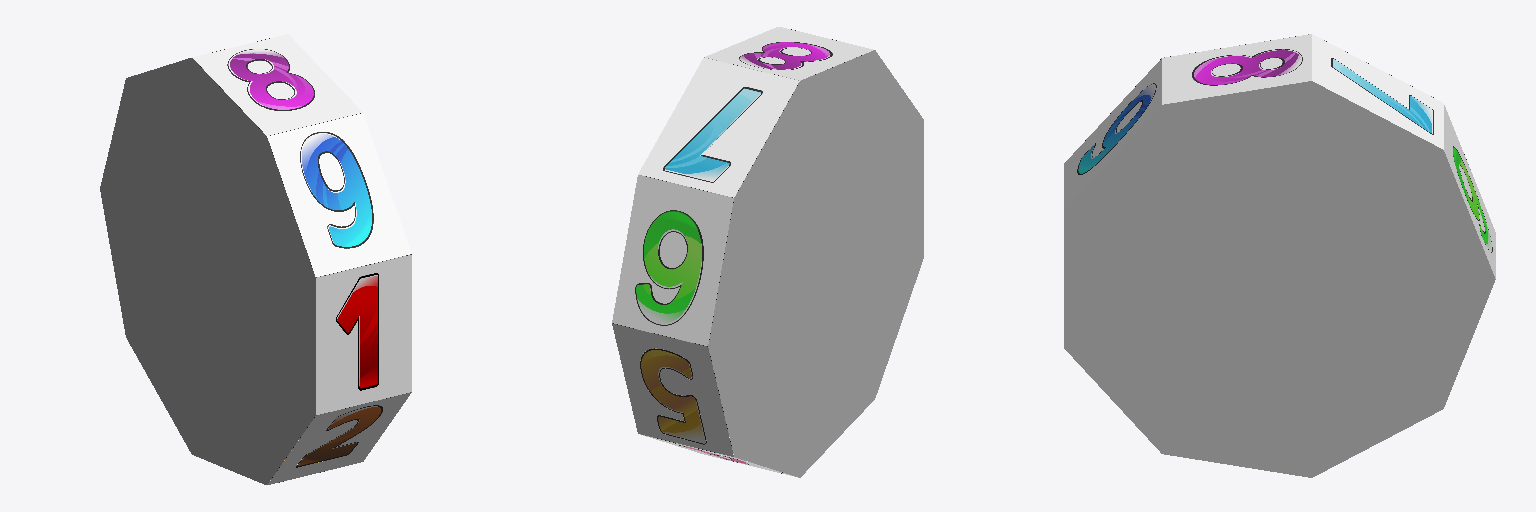
3 views of the same model, side by side, from view 1: azimuth 30°, elevation 25°; view 2: azimuth 150°, elevation 25°; view 3: azimuth 270°, elevation 25° (orthographic).
Visible parts, largest first — view 1: Cylinder; view 2: Cylinder; view 3: Cylinder.
Part boxes in pixels (x1,y1,x2,y2): Cylinder: (100,34,411,484); Cylinder: (612,27,923,477); Cylinder: (1064,34,1495,477).
Size of the model in its own units: 0.5 by 1.97 by 1.94.
10 materials, 9 textured.